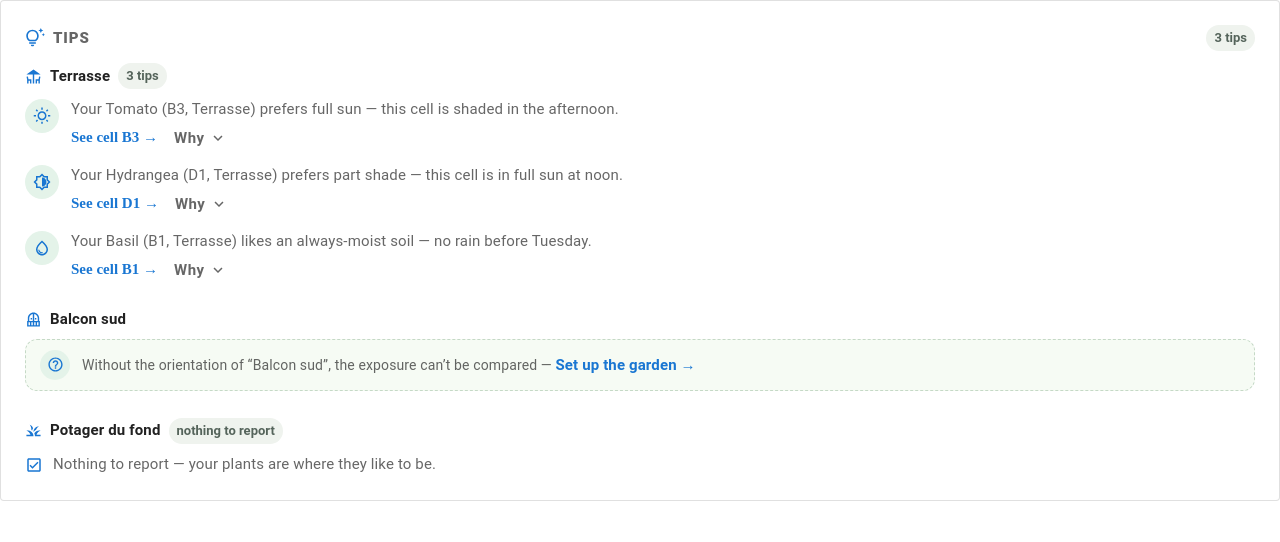
it: TipsBlock — Large (A3Expert.dc.html l. 315-334) › every « Why » is folded at rest, unfolds the rule, and folds back
Click the button "Why" next to "See cell B3 →". click: (200, 138)
box: [174,125,226,151]
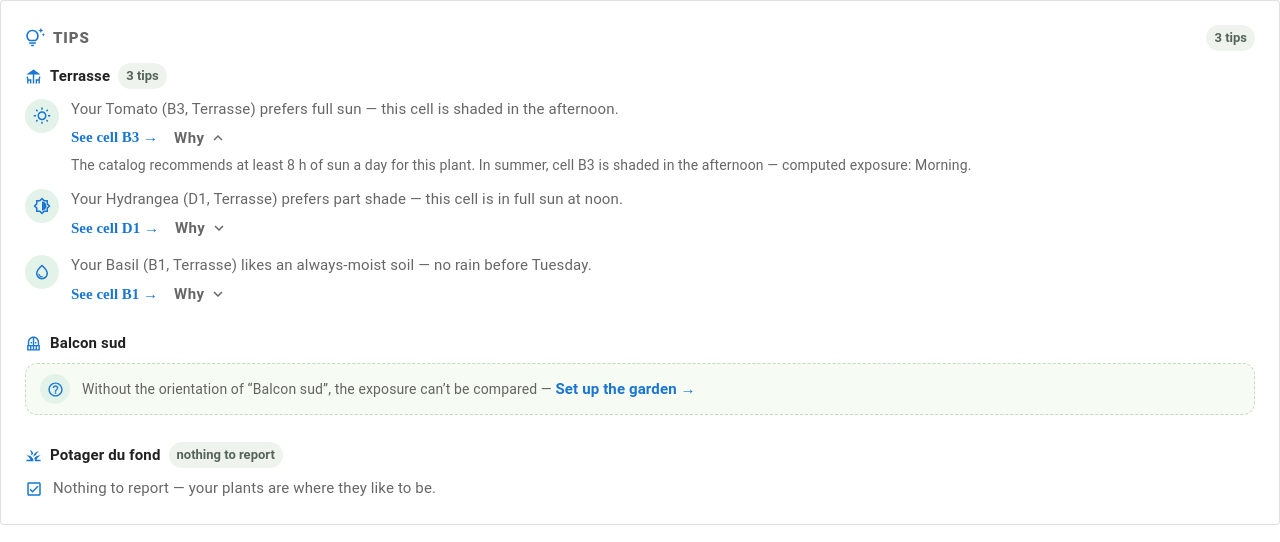
Result: the button "Why" next to "See cell B3 →" is expanded
Result: the text "The catalog recommends at least 8 h of sun a day for this plant. In summer, cell B3 is shaded in the afternoon — computed exposure: Morning." is shown at [71,157,972,173]
Click the button "Why" next to "See cell B3 →". click: (200, 138)
box: [174,125,226,151]
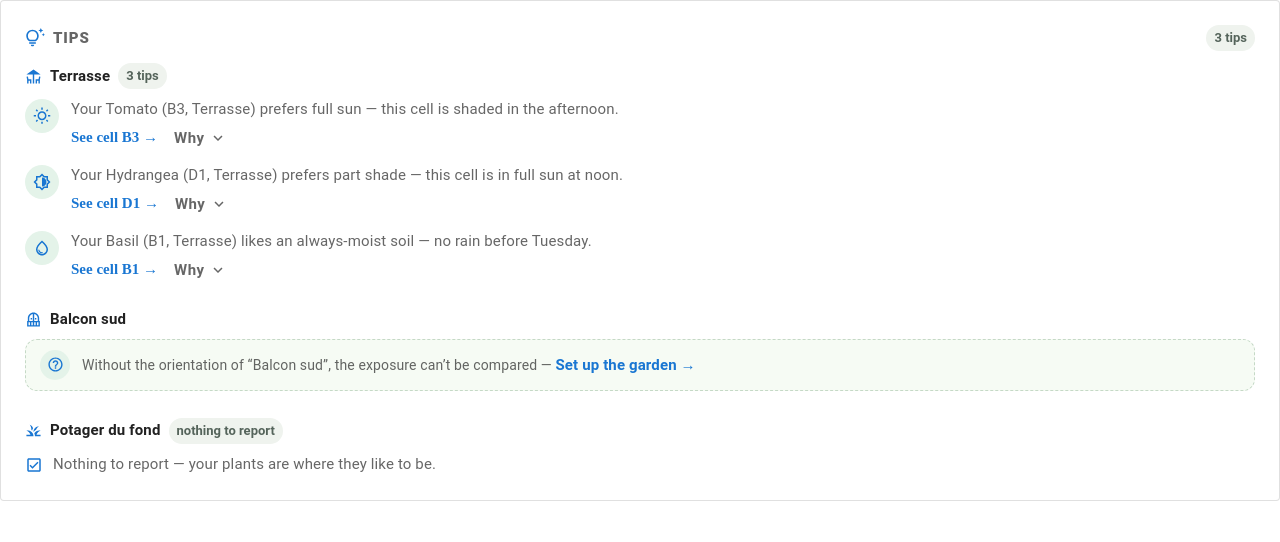
Result: the button "Why" next to "See cell B3 →" is collapsed at [174,125,226,151]
